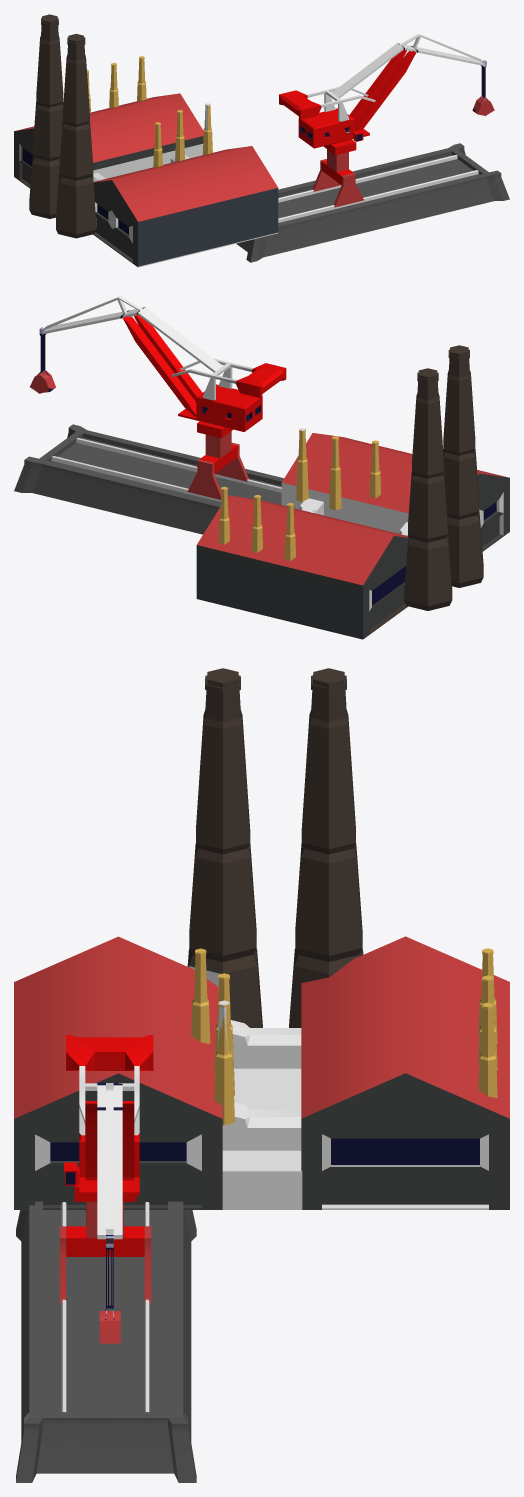
File: Haven.fbx
3 views of the same model, one above another, from view 1: azimuth 30°, elevation 25°; view 2: azimuth 150°, elevation 25°; view 3: azimuth 270°, elevation 25° (orthographic). The views are drawn at different scales.
Visible parts, largest first — view 1: pCube23; view 2: pCube23; view 3: pCube23.
Boxes of the visible parts, x1,y1,x2,y2 form: pCube23: (14,14,509,267); pCube23: (14,296,509,639); pCube23: (14,668,509,1482).
Bounding box in the file's own units: 147 × 74.68 × 77.29.
